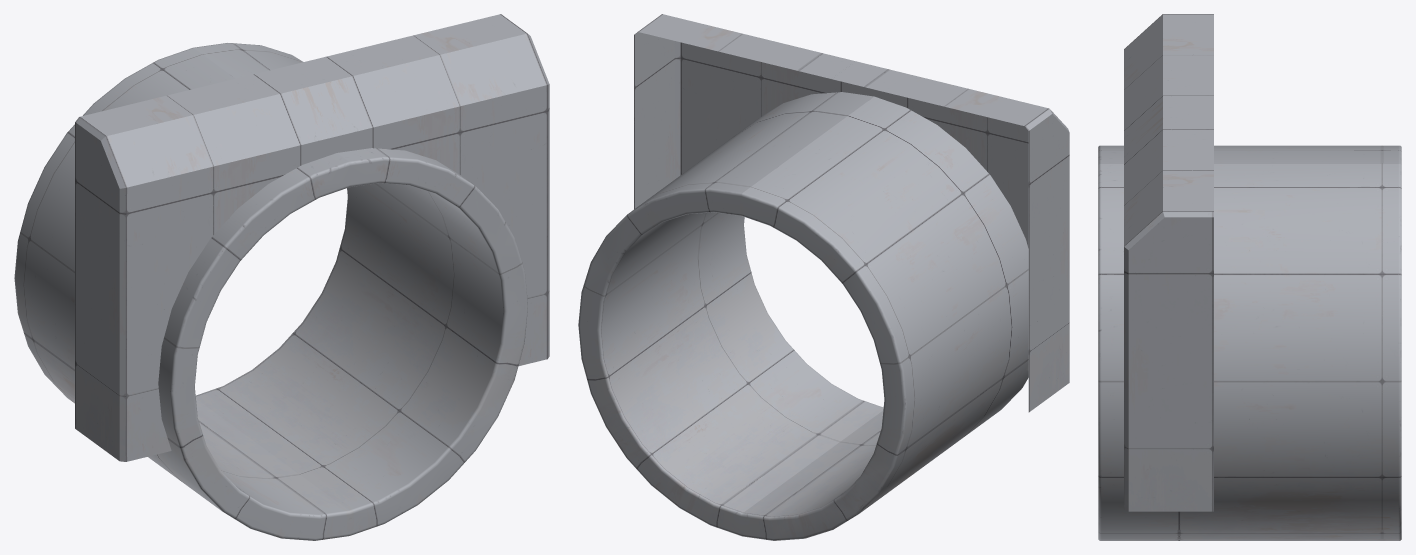
The model's file is DomeEntryWay.dae.
The picture shows the model from 3 angles, left to right: view 1: azimuth 30°, elevation 25°; view 2: azimuth 150°, elevation 25°; view 3: azimuth 270°, elevation 25°; orthographic projection. The views are drawn at different scales.
Parts seen in each view (by area): view 1: DomeEntryWay; view 2: DomeEntryWay; view 3: DomeEntryWay.
Part boxes in pixels (bbox=[...]): DomeEntryWay: bbox=[14, 14, 549, 540]; DomeEntryWay: bbox=[578, 14, 1069, 540]; DomeEntryWay: bbox=[1098, 14, 1401, 540].
Bounding box in the file's own units: 13.89 × 8.85 × 13.19.
